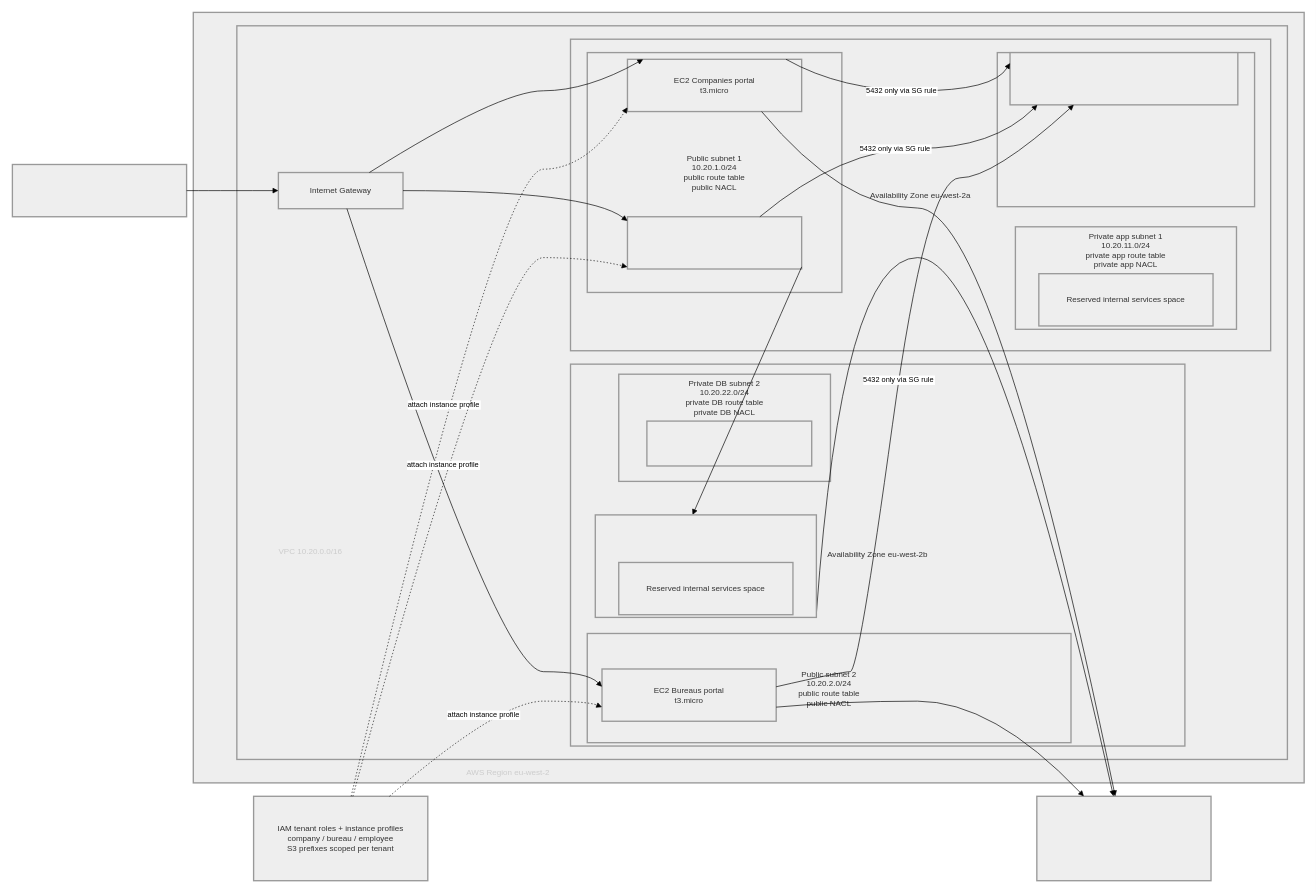
Image size: 1316x892. Some labels were removed from this diagram. Here are the shapes that lost their labels. From the top down, the box of each, then its label:
(1009, 52, 1238, 105): RDS PostgreSQL db.t3.micro publicly_accessible=false
(996, 52, 1255, 207): Private DB subnet 1 10.20.21.0/24 private DB route table private DB NACL
(11, 163, 187, 217): Internet users Companies / Bureaus / Employees
(626, 216, 802, 269): EC2 Employees portal t3.micro
(646, 420, 812, 466): DB subnet group coverage
(594, 514, 817, 618): Private app subnet 2 10.20.12.0/24 private app route table private app NACL
(1036, 795, 1211, 881): S3 bucket payroll docs / reports versioning + AES256 + public access block
